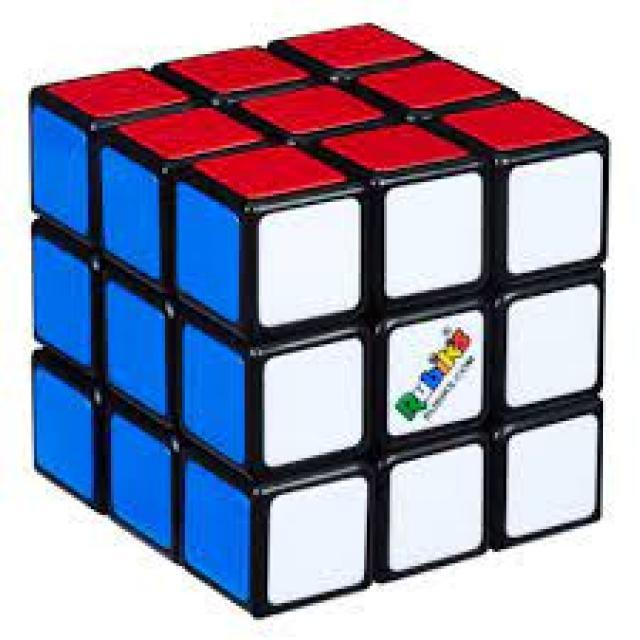Rub: (19, 17, 606, 617)
